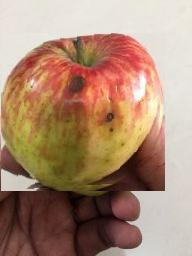Apple Semirotten: (1, 33, 165, 191)
